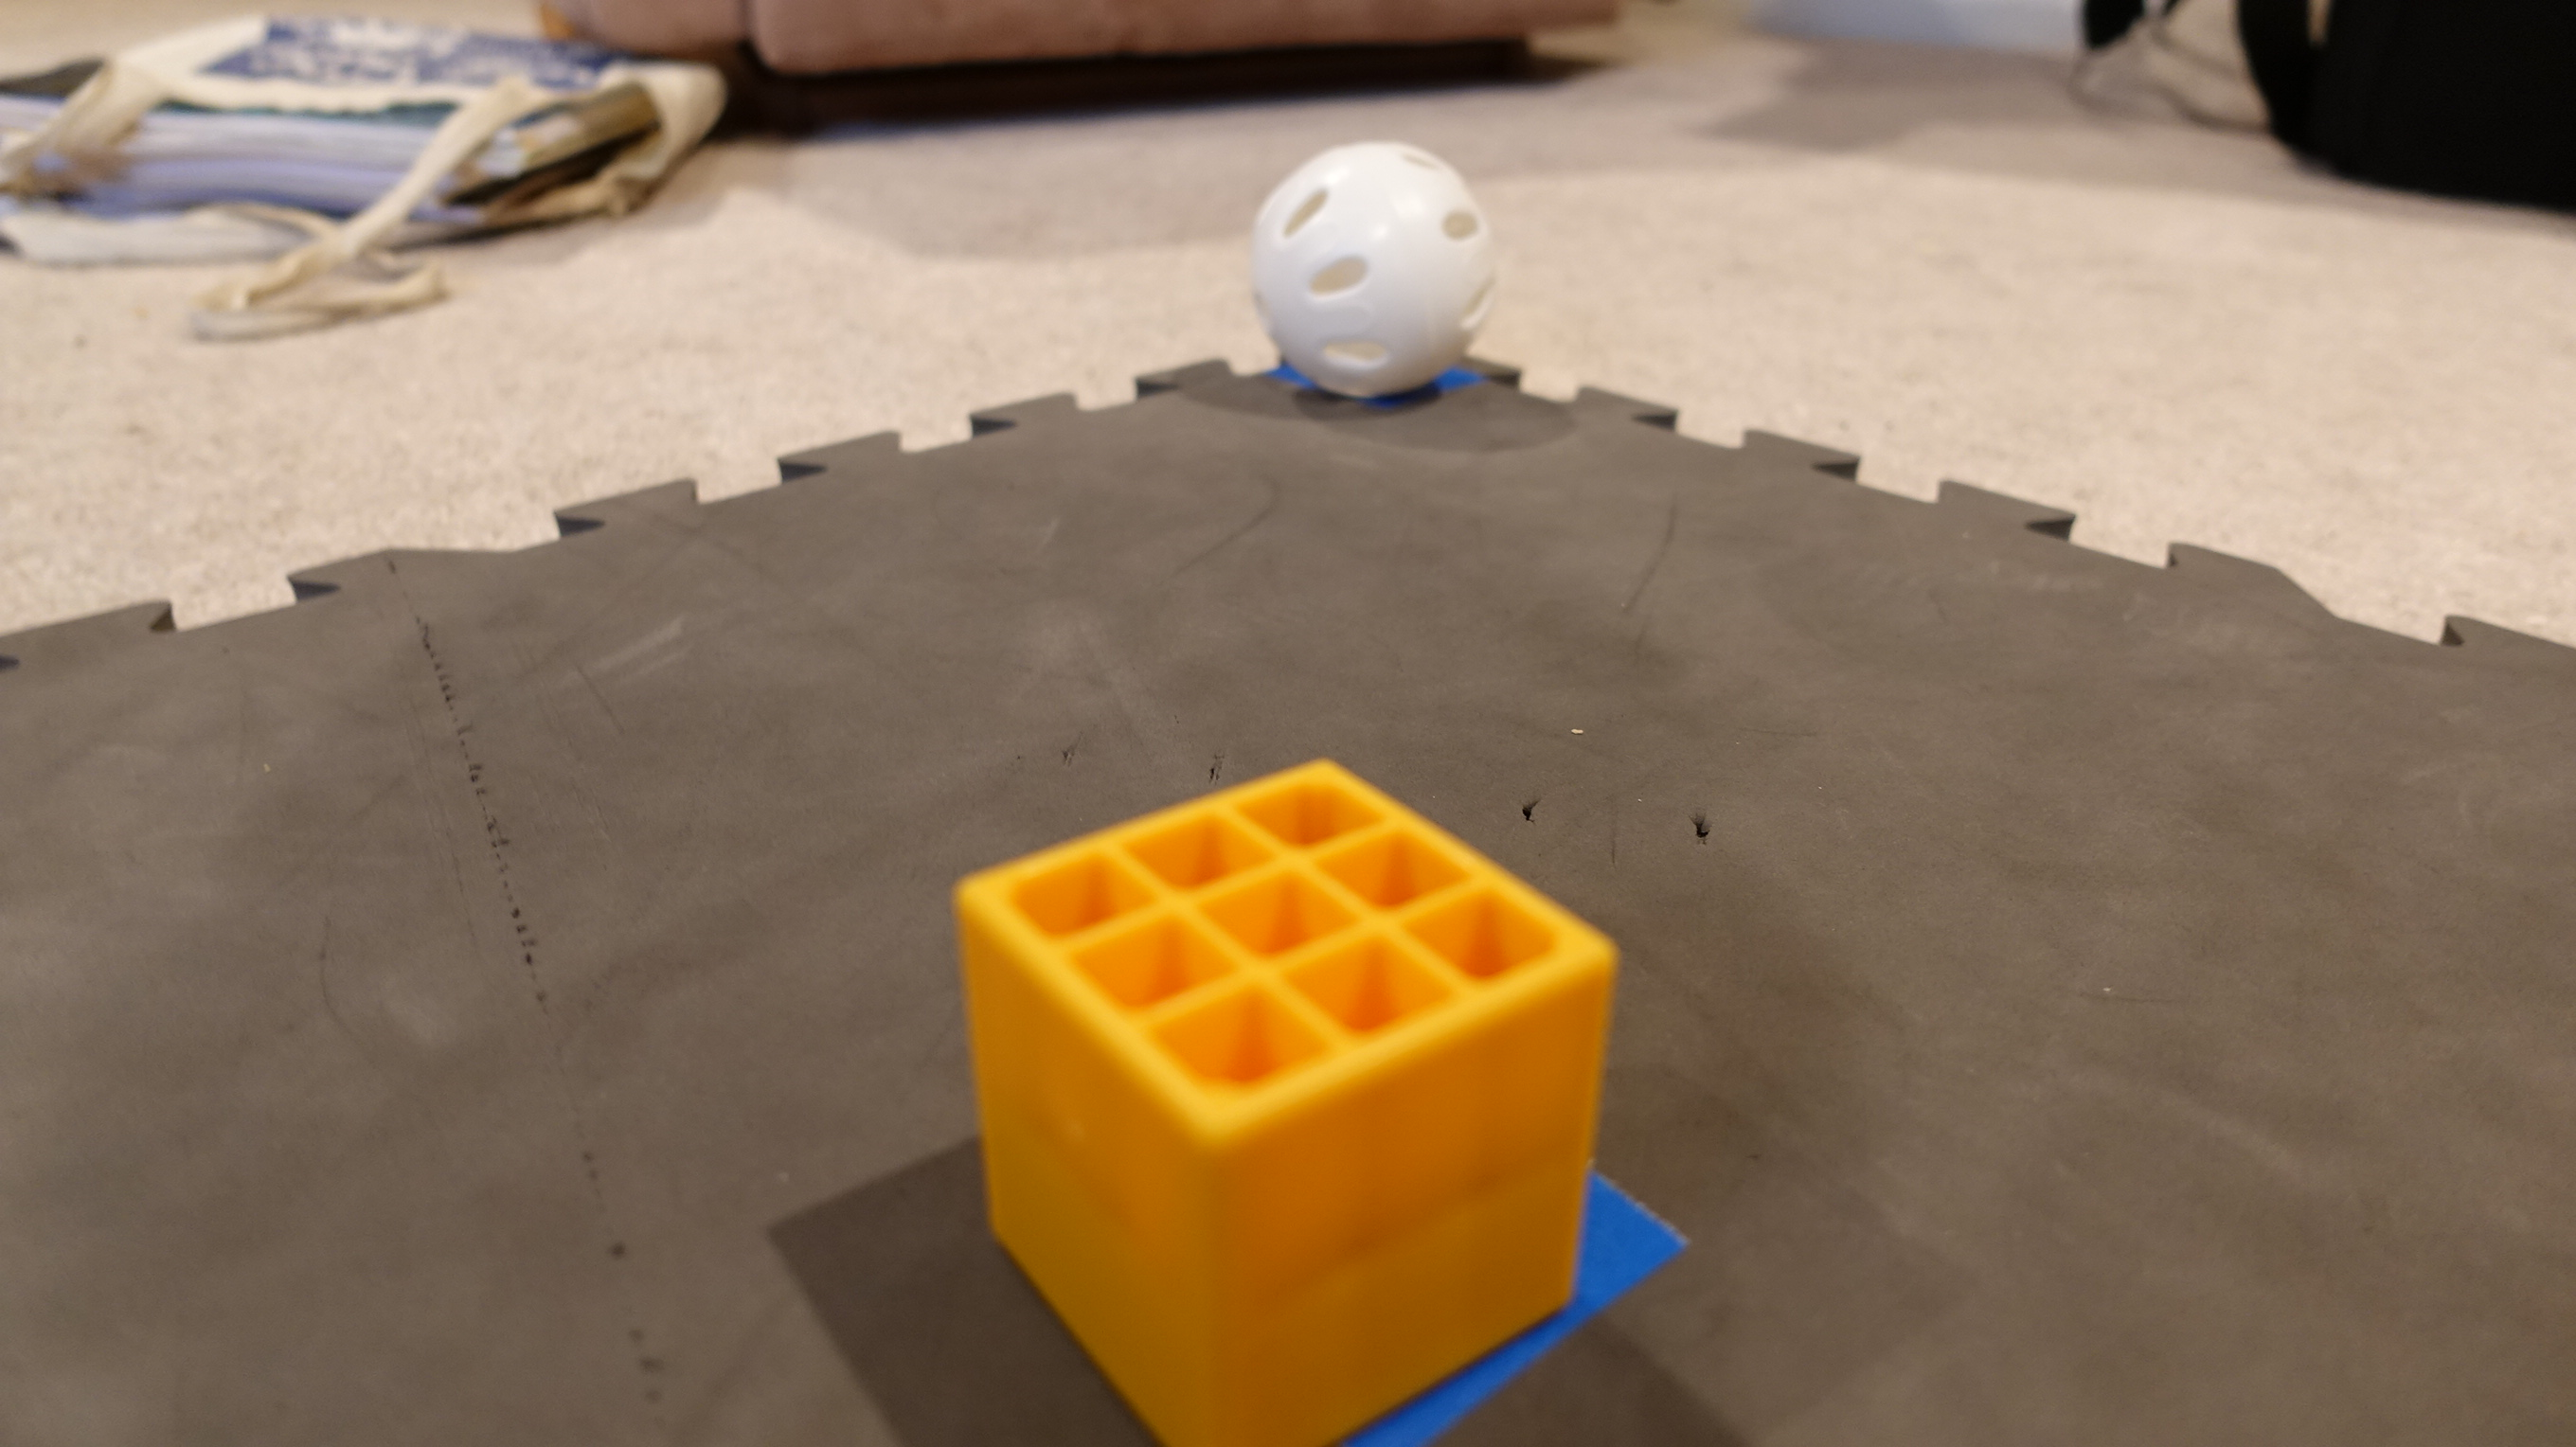gold: (950, 761, 1628, 1447)
silver: (1242, 129, 1506, 409)
